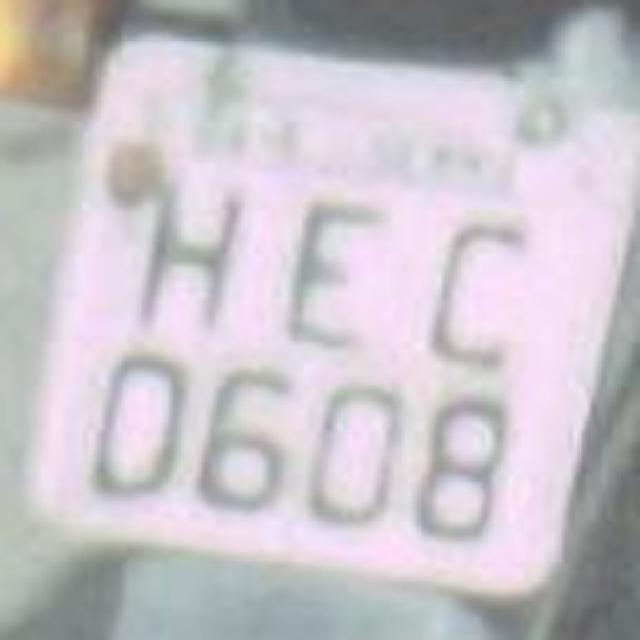0: (280, 352, 425, 552), (68, 320, 208, 512)
6: (164, 332, 316, 528)
8: (389, 364, 536, 571)
C: (408, 196, 552, 376)
H: (120, 148, 265, 352)
